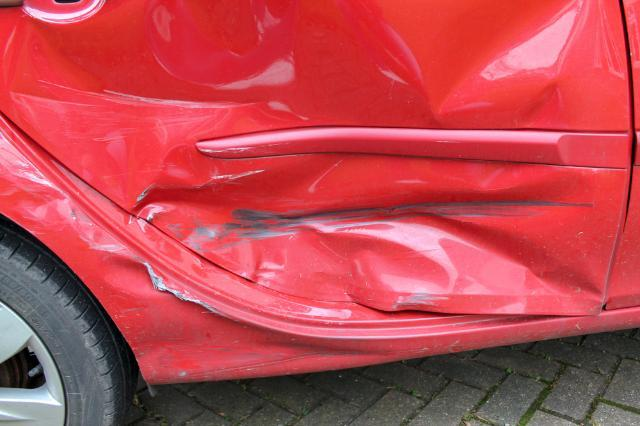dent: (8, 0, 597, 317), (0, 149, 276, 369)
